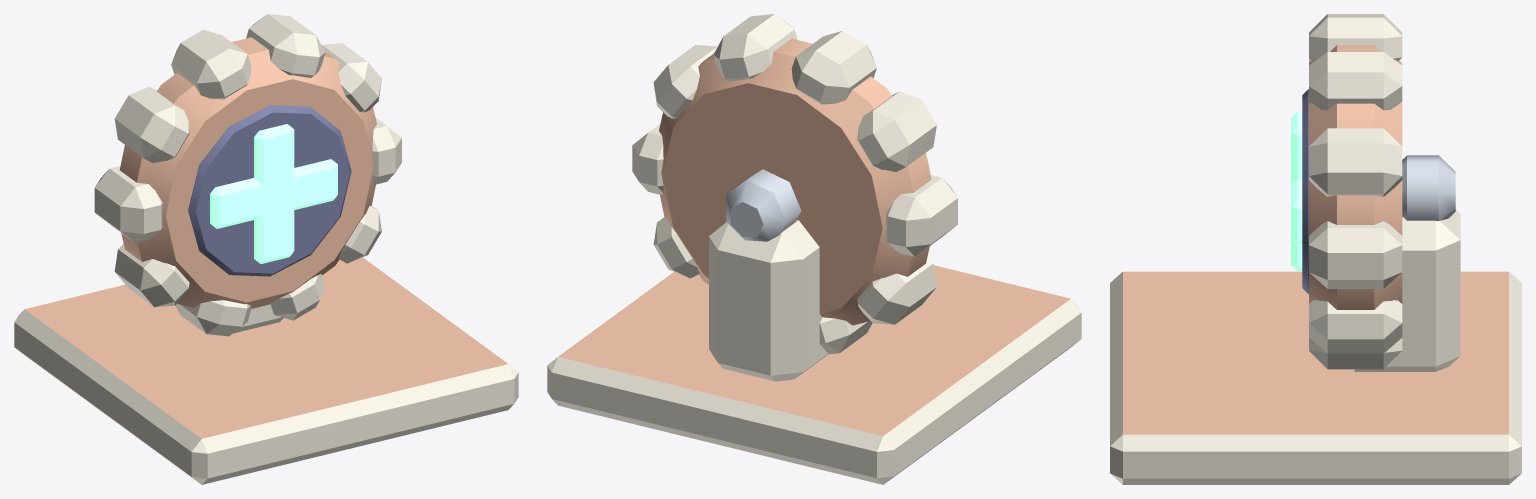
File: R4X_RepairBooster_LOD1.fbx
3 views of the same model, side by side, from view 1: azimuth 30°, elevation 25°; view 2: azimuth 150°, elevation 25°; view 3: azimuth 270°, elevation 25° (orthographic). The views are drawn at different scales.
Parts seen in each view (by area): view 1: R4X_RepairBooster_LOD1; view 2: R4X_RepairBooster_LOD1; view 3: R4X_RepairBooster_LOD1.
Boxes of the visible parts, <box> form: R4X_RepairBooster_LOD1: <box>14,14,518,484</box>; R4X_RepairBooster_LOD1: <box>547,14,1081,484</box>; R4X_RepairBooster_LOD1: <box>1110,14,1521,484</box>.
Size of the model in its own units: 0.52 by 0.5136 by 0.52.
